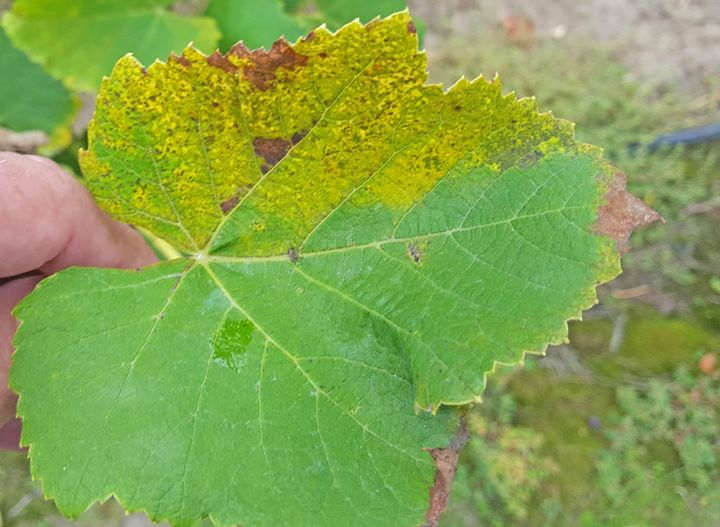downy: (101, 78, 524, 215)
